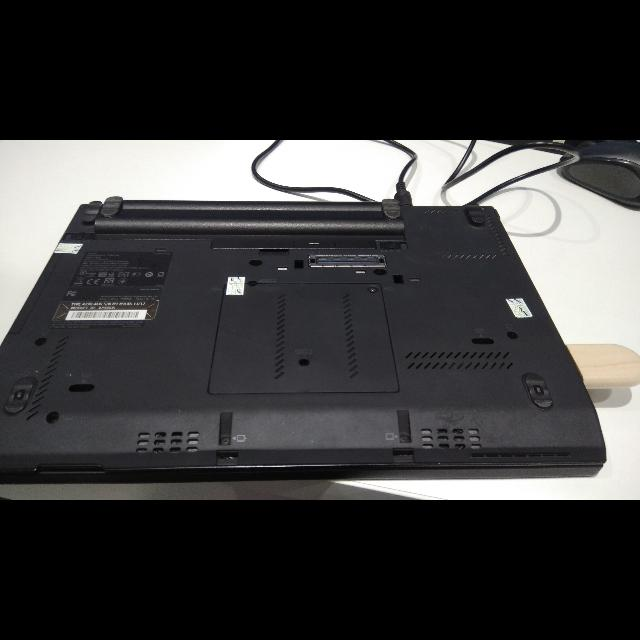Laptop: (4, 192, 612, 490)
